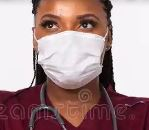with_facemask: (36, 32, 108, 90)
